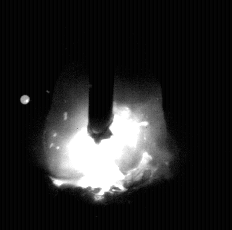arame: (89, 0, 114, 144)
poca: (41, 0, 168, 230)
